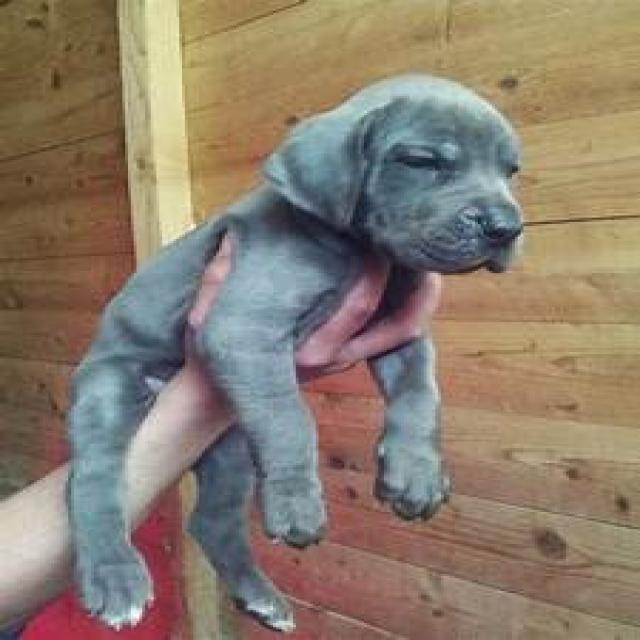dog: (65, 73, 526, 634)
